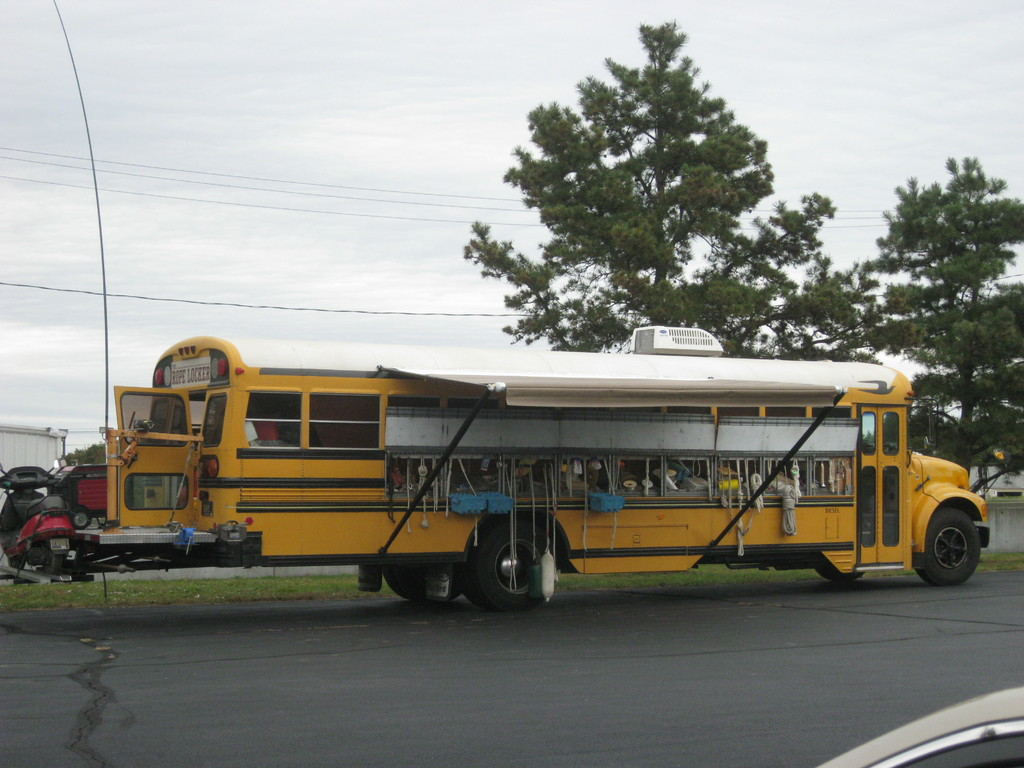Bus: (72, 326, 990, 615)
